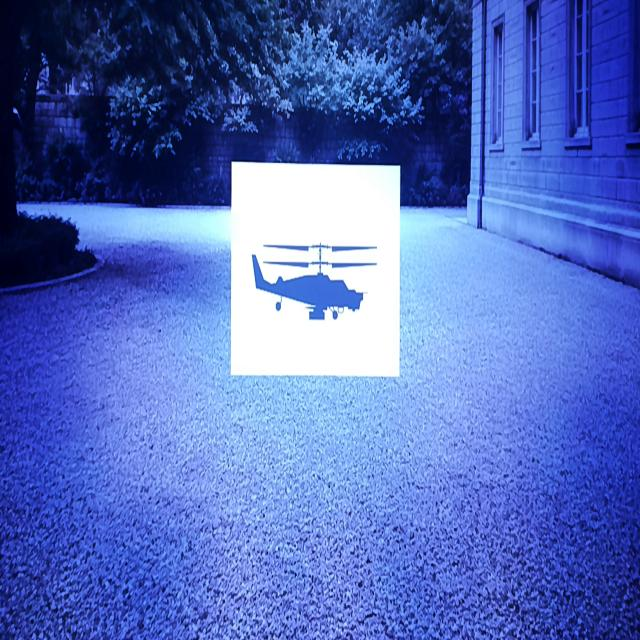Ka-52 Enemy: (252, 245, 376, 319)
